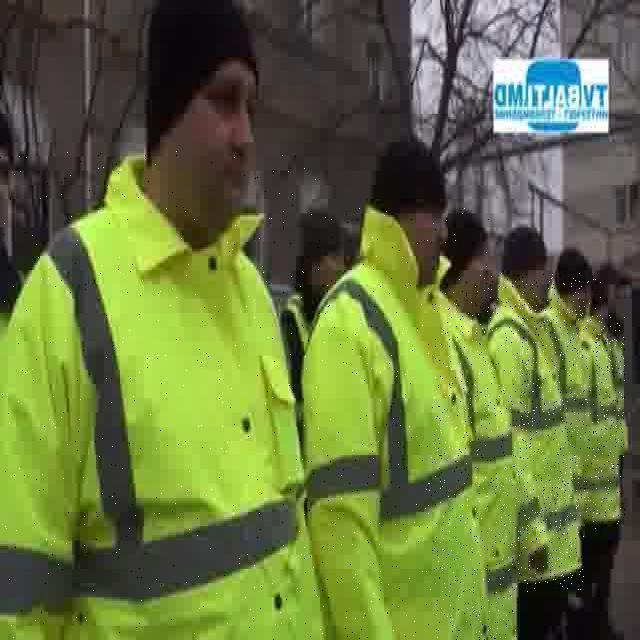safety_vest: (0, 147, 323, 640), (299, 206, 492, 640), (484, 272, 584, 594), (434, 290, 518, 640), (540, 275, 600, 537), (577, 314, 625, 524)
